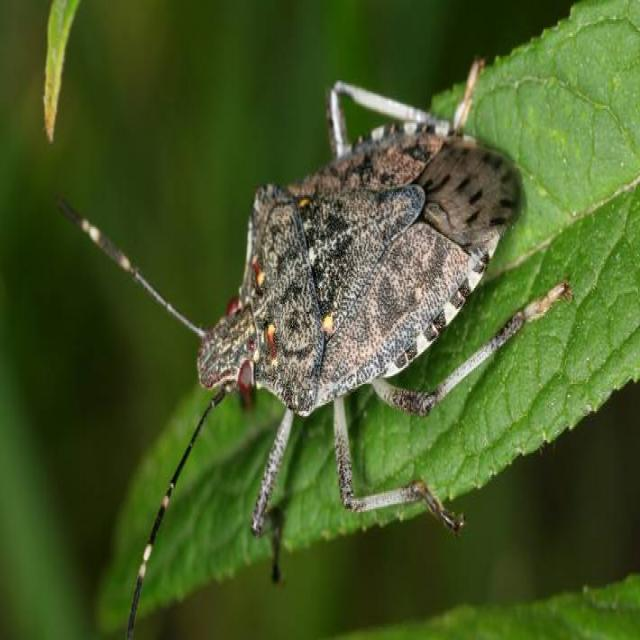stink_bug: (42, 89, 567, 628)
